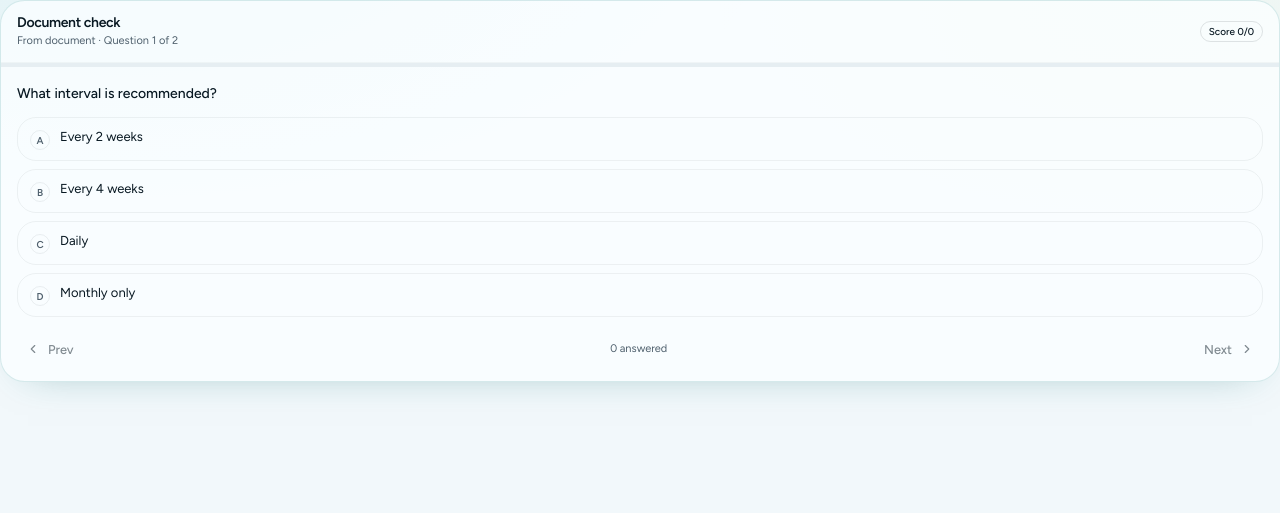
it: QuizCard › navigates to next question and shows results summary
The image size is (1280, 513).
Click the option with aria-label "Option b: Every 4 weeks" at (102, 189), box [17,169,1263,213]
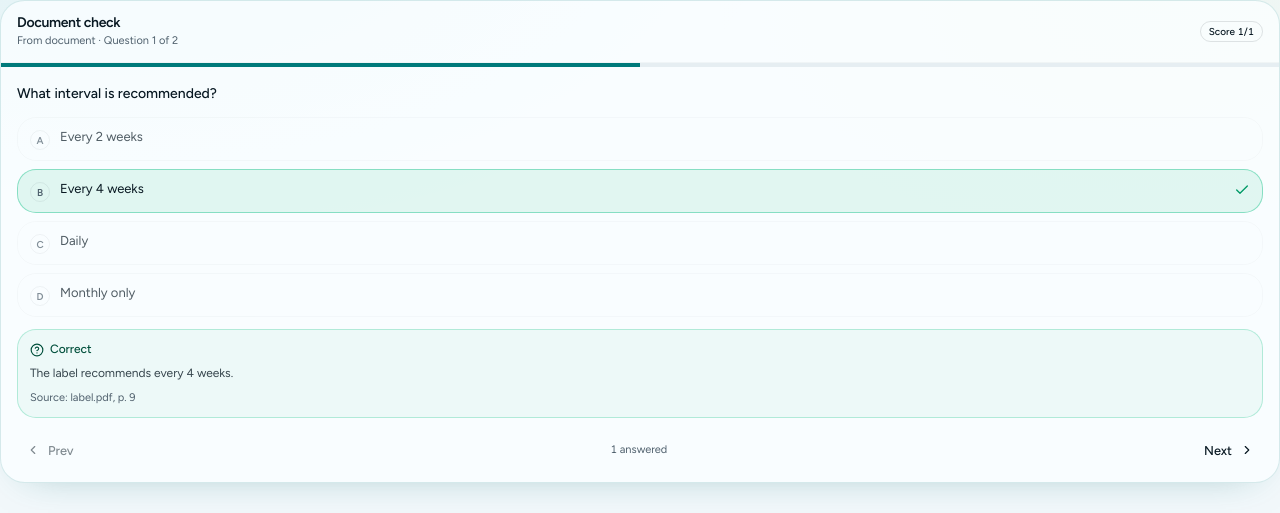
Expected: the text "Correct" is shown, [30,342,92,357]
Click the button "Next" at (1229, 450), box [1195,434,1263,466]
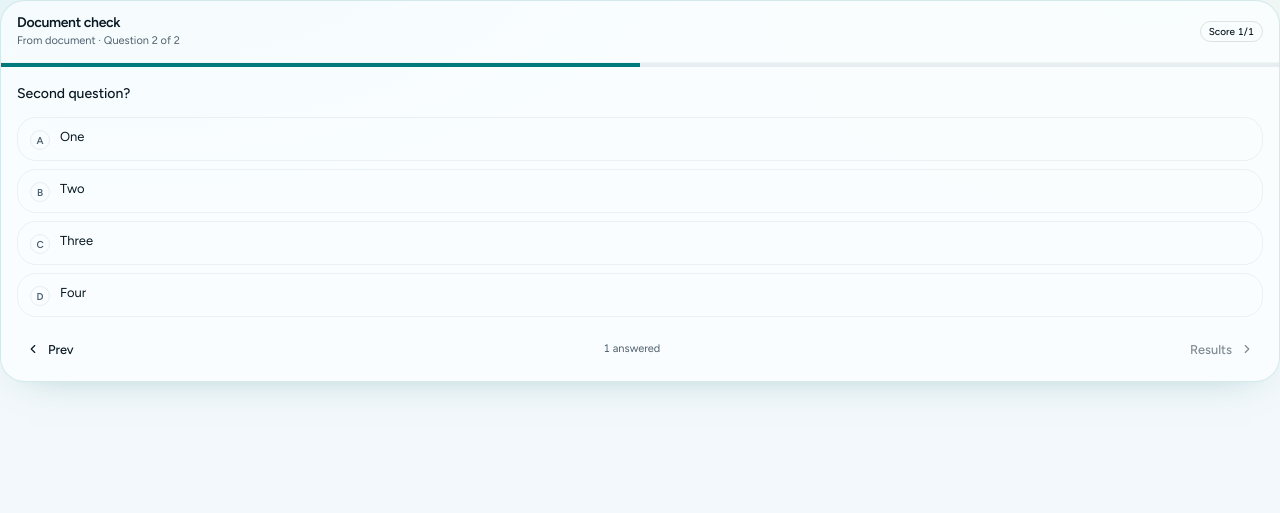
Expected: the text "Second question?" is shown, [17,84,130,102]
Click the option with aria-label "Option a: One" at (40, 140), box [17,117,1263,161]
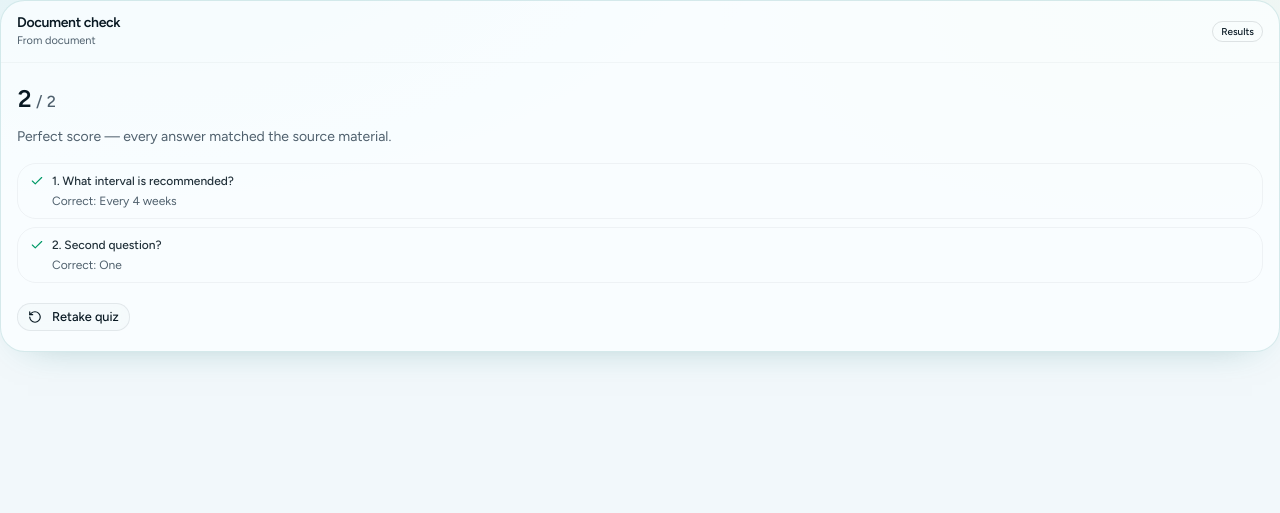
Expected: the text "Results" is shown, [1212,21,1263,42]
Expected: the button "Retake quiz" is shown, [17,302,130,330]
Expected: the text "Perfect score — every answer matched the source material." is shown, [17,128,391,144]
